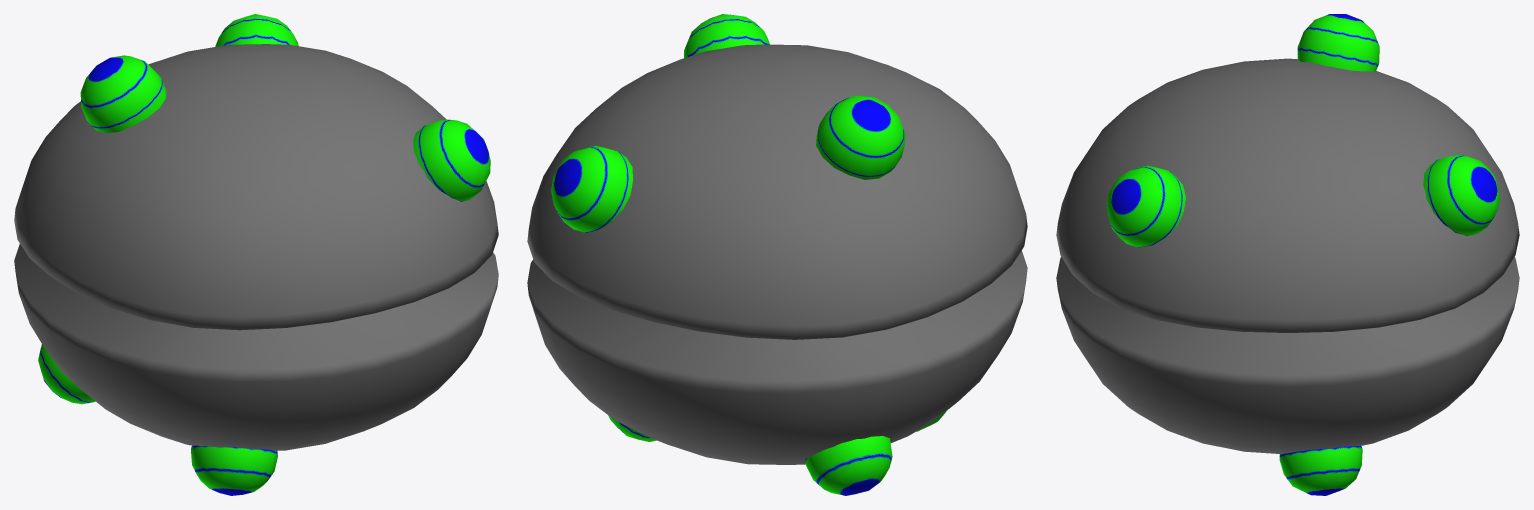
The model's file is Bomba Manta.FBX.
The picture shows the model from 3 angles, left to right: view 1: azimuth 30°, elevation 25°; view 2: azimuth 150°, elevation 25°; view 3: azimuth 270°, elevation 25°; orthographic projection. The views are drawn at different scales.
Visible parts, largest first — view 1: Bomba Manta; view 2: Bomba Manta; view 3: Bomba Manta.
Part boxes in pixels (left/top/right/bottom): Bomba Manta: left=14, top=14, right=498, bottom=495; Bomba Manta: left=527, top=14, right=1027, bottom=495; Bomba Manta: left=1056, top=14, right=1519, bottom=495.
Size of the model in its own units: 0.5648 by 0.5027 by 0.5648.
